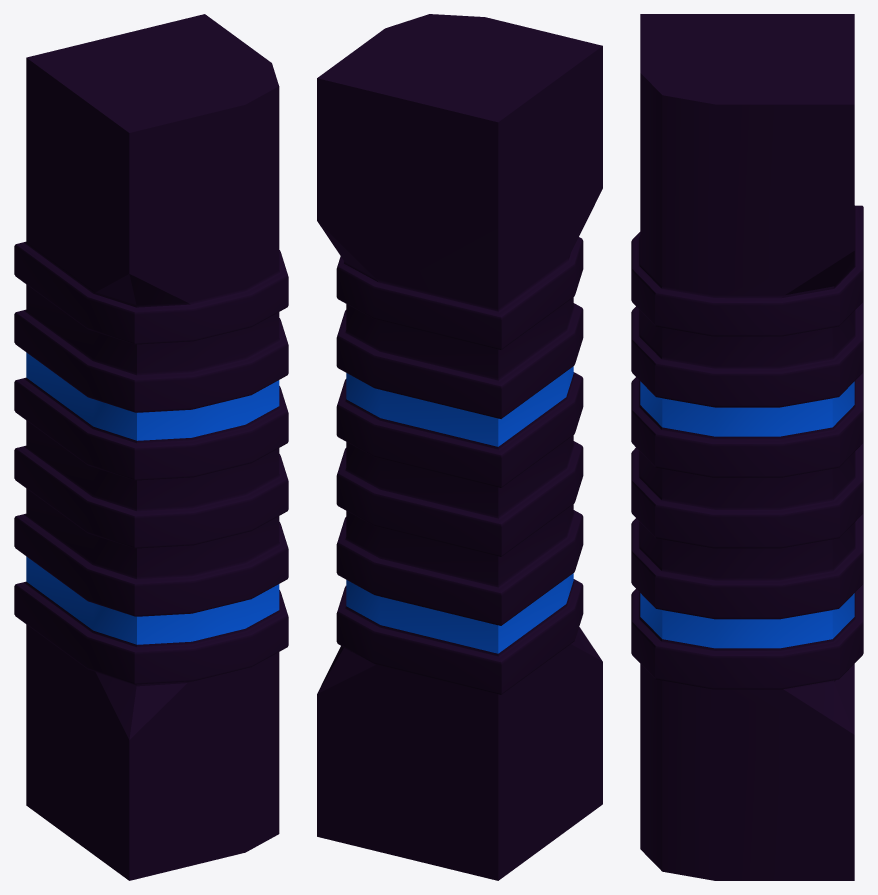
Rendered from cornerBlue.fbx.
3 views of the same model, side by side, from view 1: azimuth 30°, elevation 25°; view 2: azimuth 150°, elevation 25°; view 3: azimuth 270°, elevation 25° (orthographic). The views are drawn at different scales.
Visible parts, largest first — view 1: pCube1; view 2: pCube1; view 3: pCube1.
Part boxes in pixels (bbox=[...]): pCube1: bbox=[14, 14, 288, 880]; pCube1: bbox=[317, 14, 602, 880]; pCube1: bbox=[631, 14, 863, 880].
Bounding box in the file's own units: 1.08 × 4 × 1.08.
